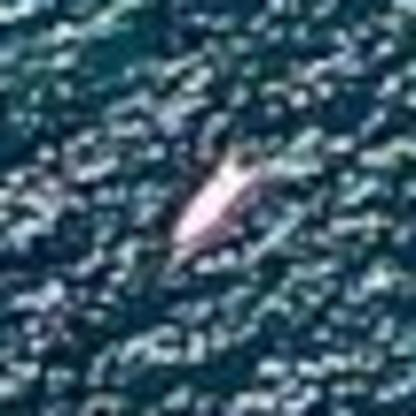ship: (146, 143, 288, 271)
